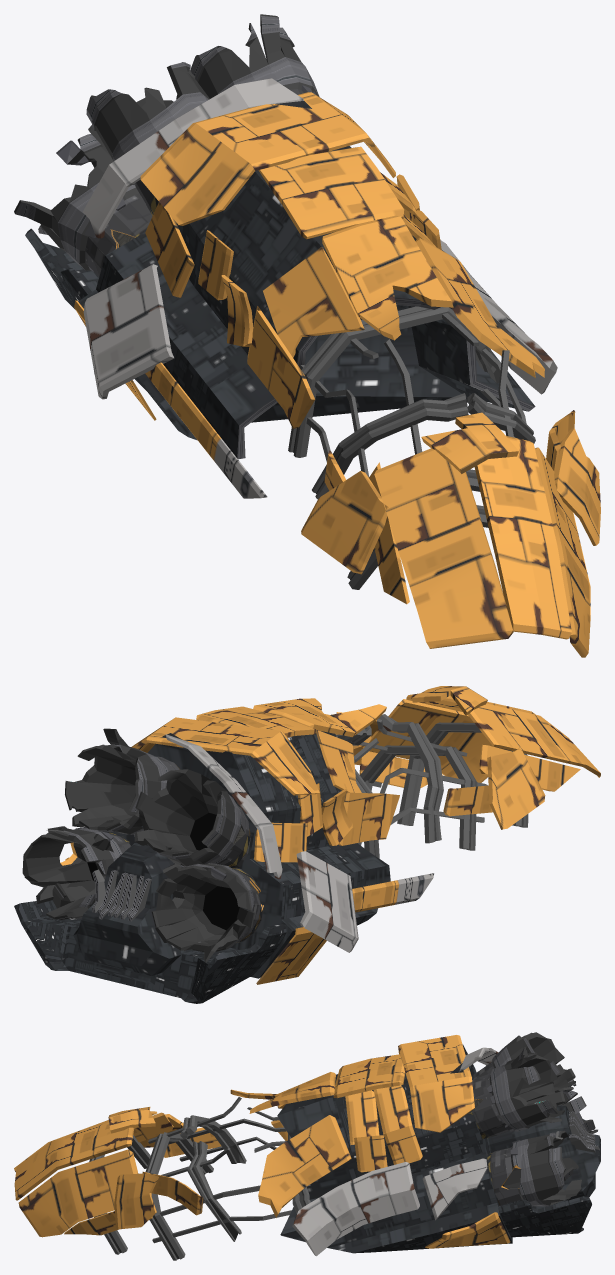
The model's file is crash.fbx.
The picture shows the model from 3 angles, top to bottom: view 1: azimuth 30°, elevation 25°; view 2: azimuth 150°, elevation 25°; view 3: azimuth 270°, elevation 25°; orthographic projection. The views are drawn at different scales.
Parts seen in each view (by area): view 1: SM_Bld_Scav_Wreckage_02; view 2: SM_Bld_Scav_Wreckage_02; view 3: SM_Bld_Scav_Wreckage_02.
Boxes of the visible parts, bbox=[...] form: SM_Bld_Scav_Wreckage_02: bbox=[14, 14, 600, 657]; SM_Bld_Scav_Wreckage_02: bbox=[14, 686, 600, 1003]; SM_Bld_Scav_Wreckage_02: bbox=[14, 1032, 600, 1260].
Bounding box in the file's own units: 18477 × 17394 × 42116.
Materials: 1 (1 with a texture image).
